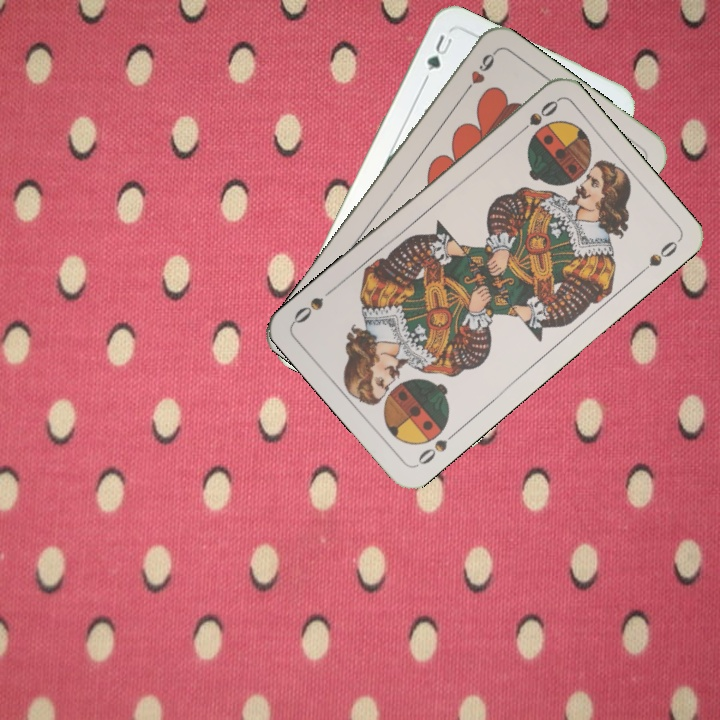GU: (422, 30, 455, 74)
H9: (458, 47, 498, 99)
SO: (511, 96, 561, 140), (412, 426, 461, 469)
